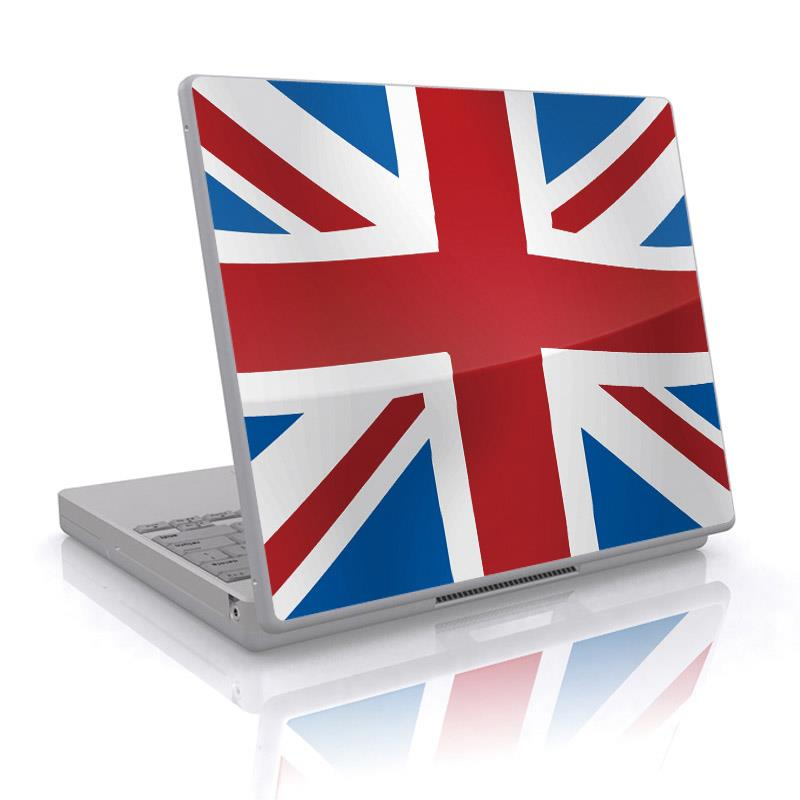UK_flag: (189, 78, 736, 621)
